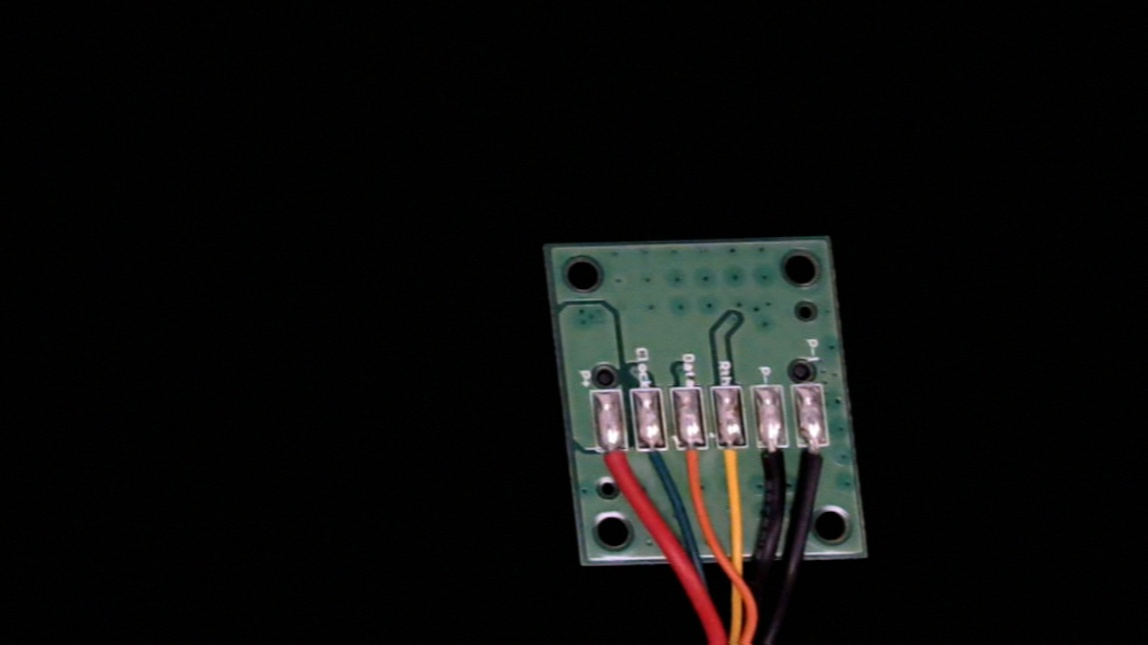Black: (753, 429, 795, 501)
Black1: (799, 429, 839, 495)
Green: (634, 437, 675, 486)
Orange: (673, 434, 713, 505)
Red: (593, 432, 635, 501)
Yellow: (712, 433, 754, 505)
